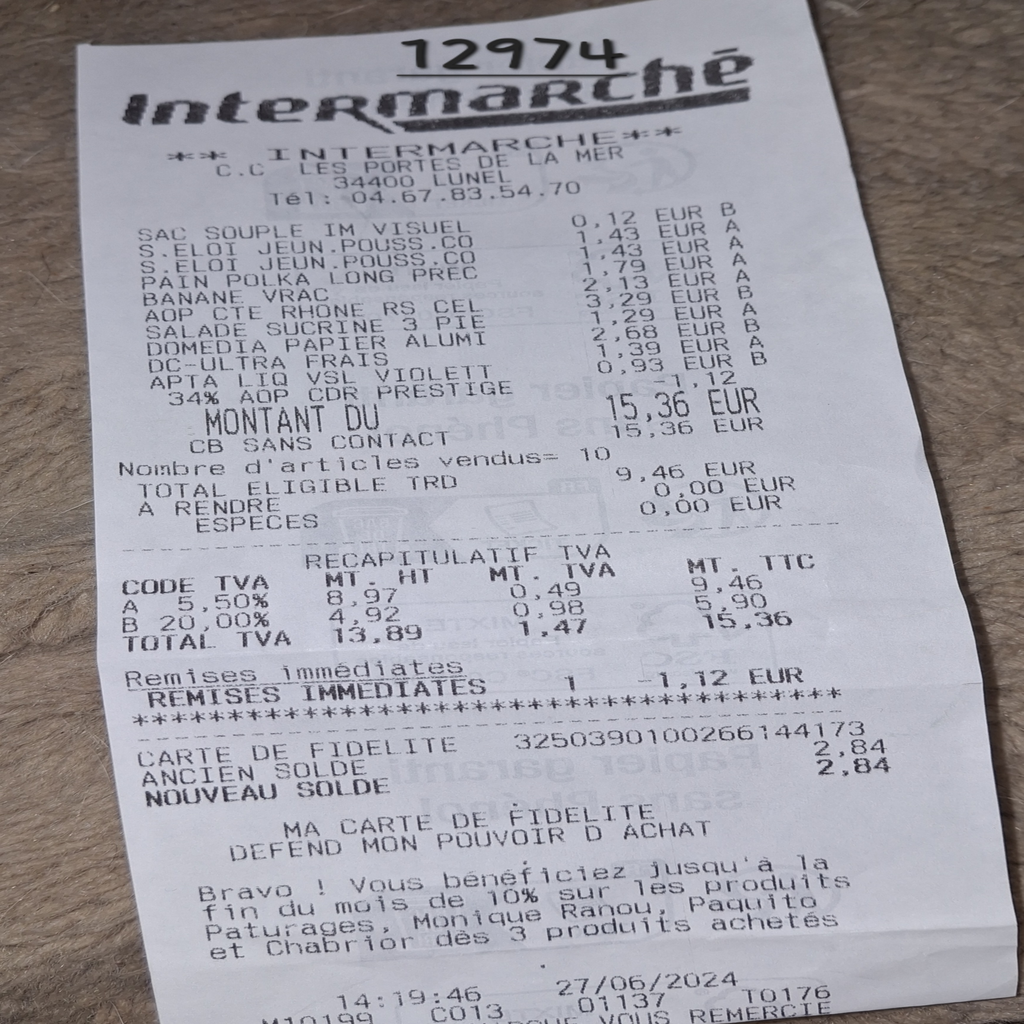recipt: (76, 0, 1024, 1011)
